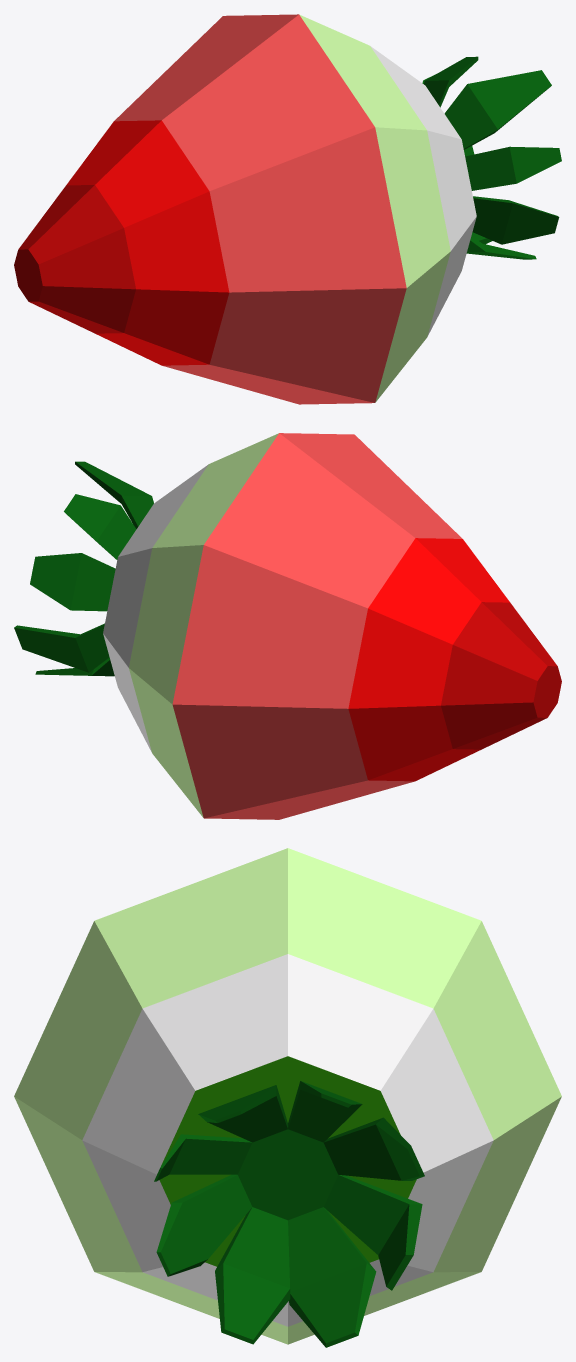
The model's file is strawberry03.obj.
3 views of the same model, one above another, from view 1: azimuth 30°, elevation 25°; view 2: azimuth 150°, elevation 25°; view 3: azimuth 270°, elevation 25° (orthographic). The views are drawn at different scales.
Visible parts, largest first — view 1: Cylinder.001; view 2: Cylinder.001; view 3: Cylinder.001.
Boxes of the visible parts, bbox=[...] form: Cylinder.001: bbox=[14, 14, 561, 404]; Cylinder.001: bbox=[14, 433, 561, 819]; Cylinder.001: bbox=[14, 848, 561, 1347].
Size of the model in its own units: 0.0502 by 0.0378 by 0.0378.
1 material, 1 textured.
